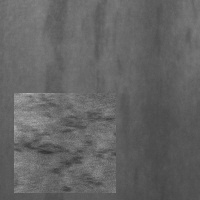inclusion: (35, 1, 71, 199), (88, 1, 119, 139), (141, 1, 170, 67), (114, 87, 136, 165), (43, 159, 67, 199)
rolled-in_scale: (14, 93, 116, 193)
